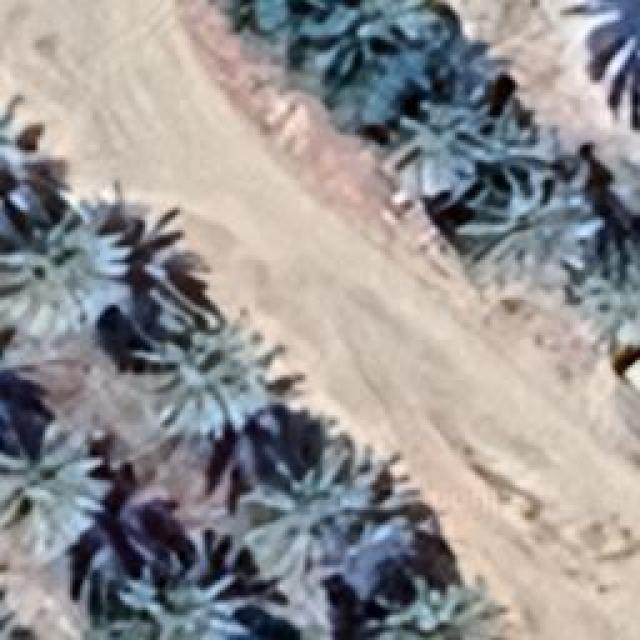PalmTree: (64, 109, 608, 301), (240, 435, 422, 585), (125, 300, 298, 442), (0, 210, 128, 340), (452, 165, 600, 273), (0, 422, 110, 560), (302, 0, 440, 110), (110, 560, 255, 638), (560, 0, 638, 120), (372, 574, 512, 638), (0, 95, 41, 230), (611, 124, 640, 233), (0, 582, 39, 640)
